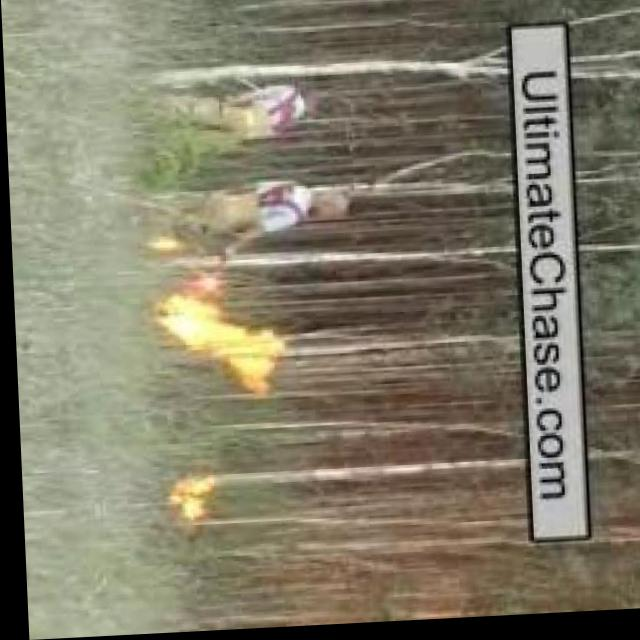Fire: (150, 298, 276, 400), (162, 476, 206, 529)
